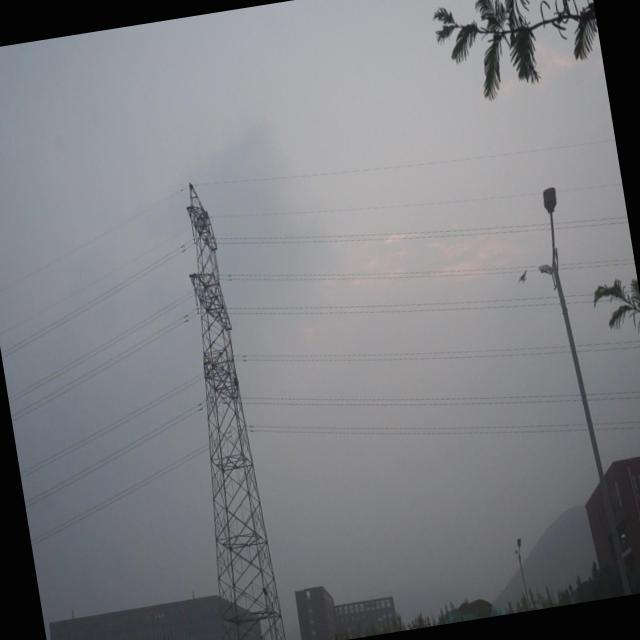drone: (514, 266, 532, 292)
